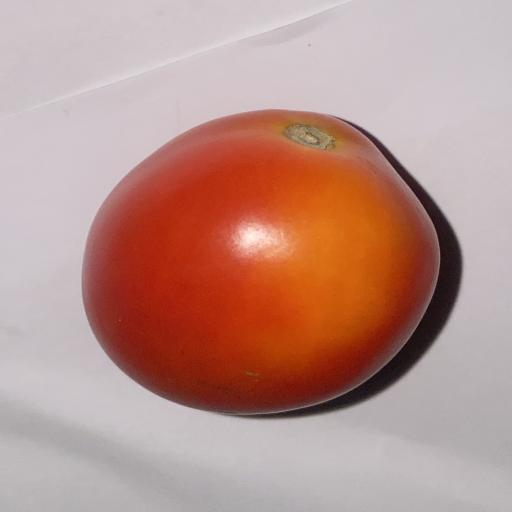ripe: (83, 110, 439, 413)
